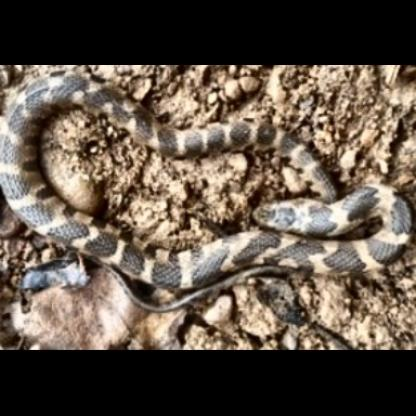Snake: (8, 92, 414, 322)
